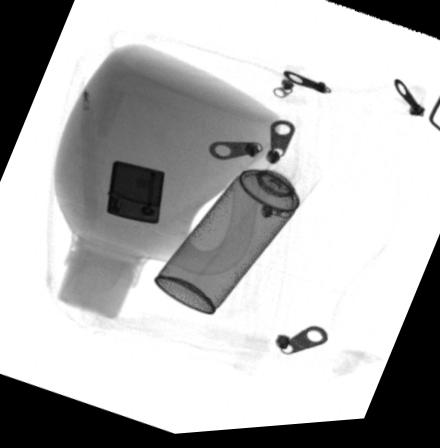Lighter: (105, 162, 164, 227)
Sprayer: (152, 143, 325, 317)
